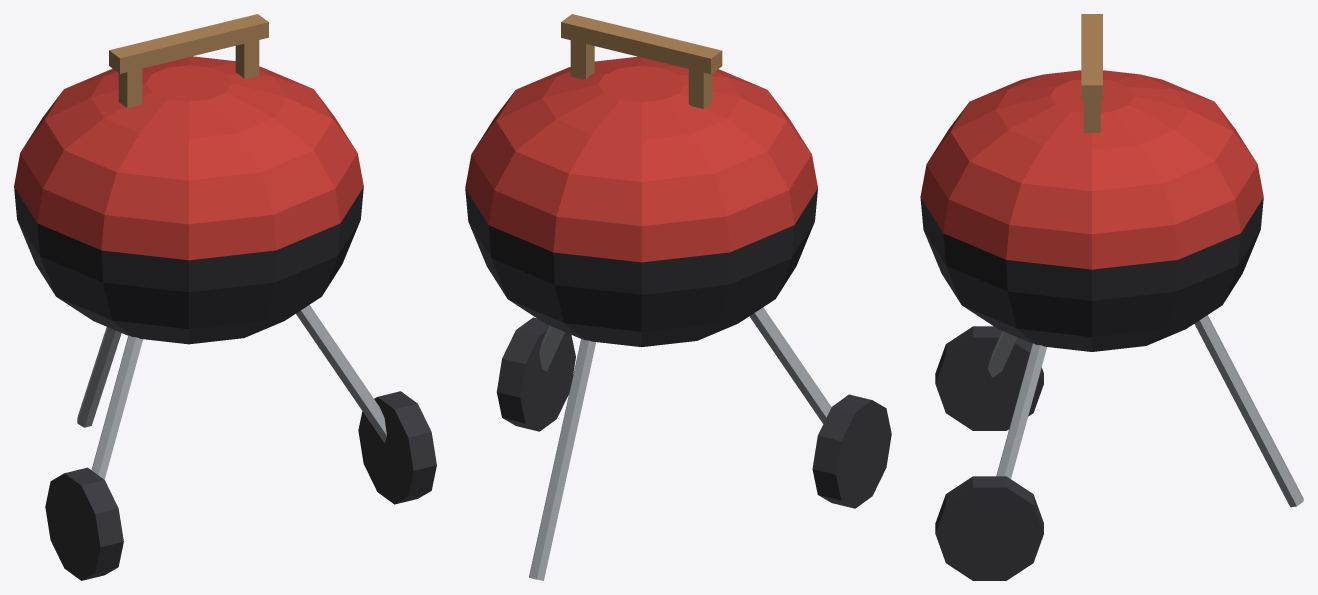
File: FN_Barbecue_Kettle.obj
3 views of the same model, side by side, from view 1: azimuth 30°, elevation 25°; view 2: azimuth 150°, elevation 25°; view 3: azimuth 270°, elevation 25° (orthographic). The views are drawn at different scales.
Visible parts, largest first — view 1: FN_Barbecue_Kettle; view 2: FN_Barbecue_Kettle; view 3: FN_Barbecue_Kettle.
Boxes of the visible parts, x1,y1,x2,y2 form: FN_Barbecue_Kettle: (14, 14, 436, 580); FN_Barbecue_Kettle: (465, 14, 891, 580); FN_Barbecue_Kettle: (920, 14, 1303, 580).
Bounding box in the file's own units: 0.6329 × 0.8352 × 0.636.
Materials: 1 (1 with a texture image).
